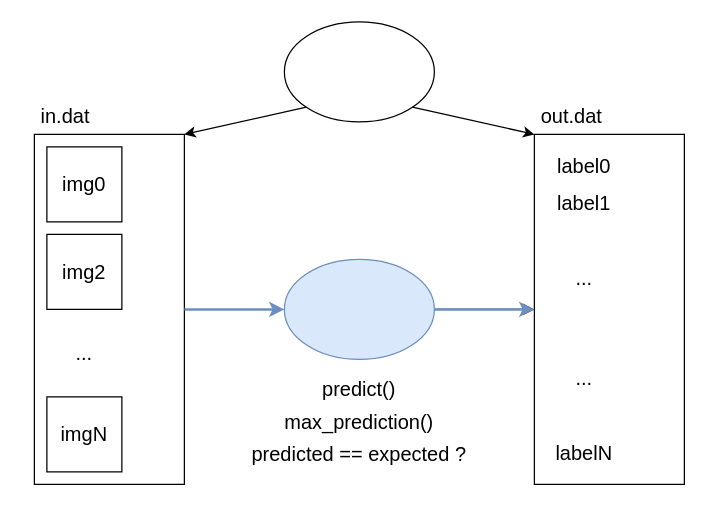
This 706x508 diagram has some shape labels left out. The shapes that lost their labels are listed below. From the top down, each one's centre as x and y in pixels, then its label:
At point (358, 71): "gen-tb.py".
At point (358, 308): "cnn_tb.c".
